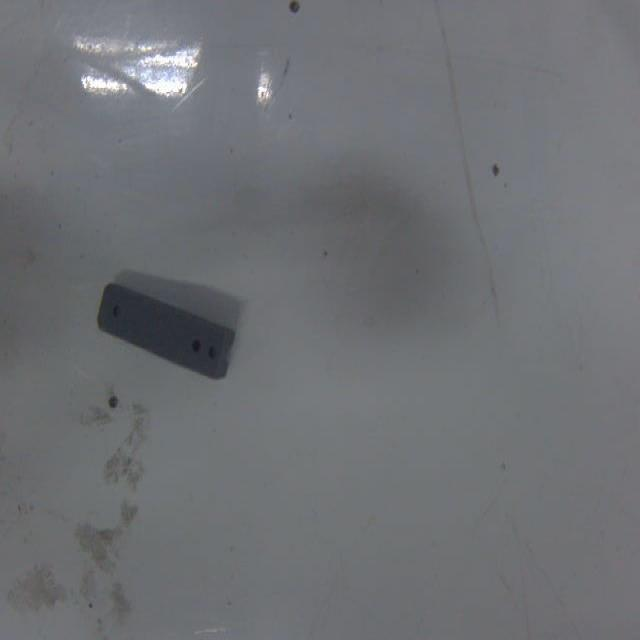grey: (98, 281, 236, 386)
head: (111, 302, 123, 322)
